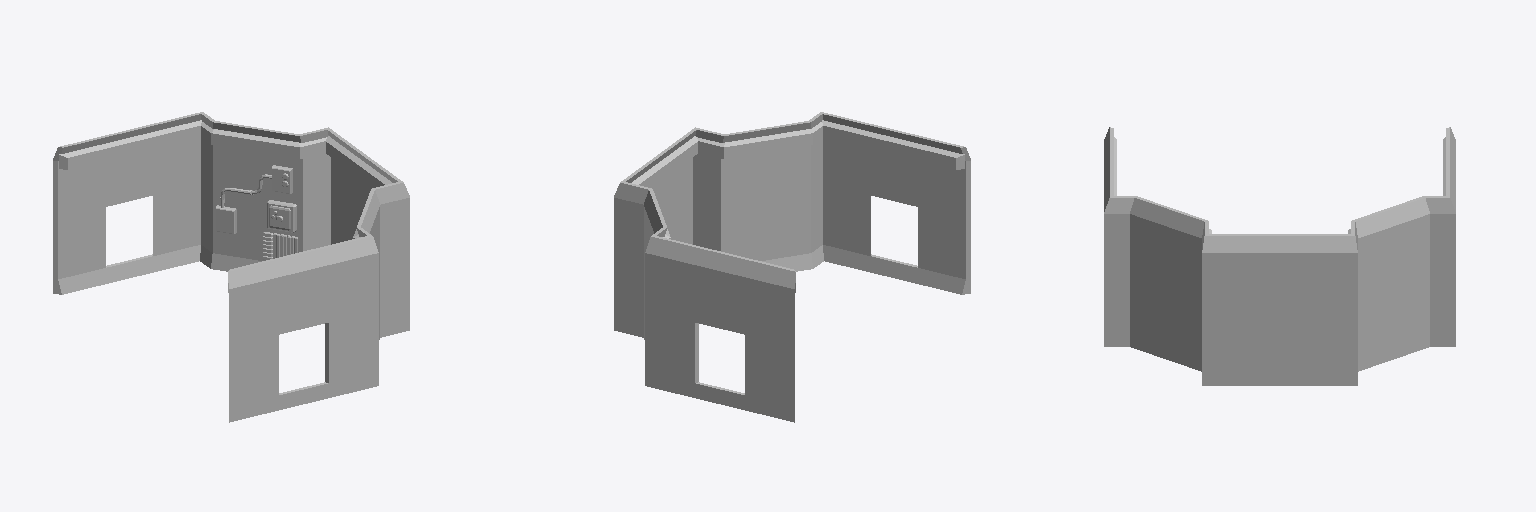
Rendered from walls.obj.
3 renders of one model, left to right at view 1: azimuth 30°, elevation 25°; view 2: azimuth 150°, elevation 25°; view 3: azimuth 270°, elevation 25°, orthographic.
Parts seen in each view (by area): view 1: wallHub; view 2: wallHub; view 3: wallHub.
Part boxes in pixels (left/top/right/bottom): wallHub: left=53, top=112, right=409, bottom=422; wallHub: left=614, top=112, right=970, bottom=422; wallHub: left=1104, top=127, right=1455, bottom=385.
Size of the model in its own units: 44.37 by 27.23 by 58.64.